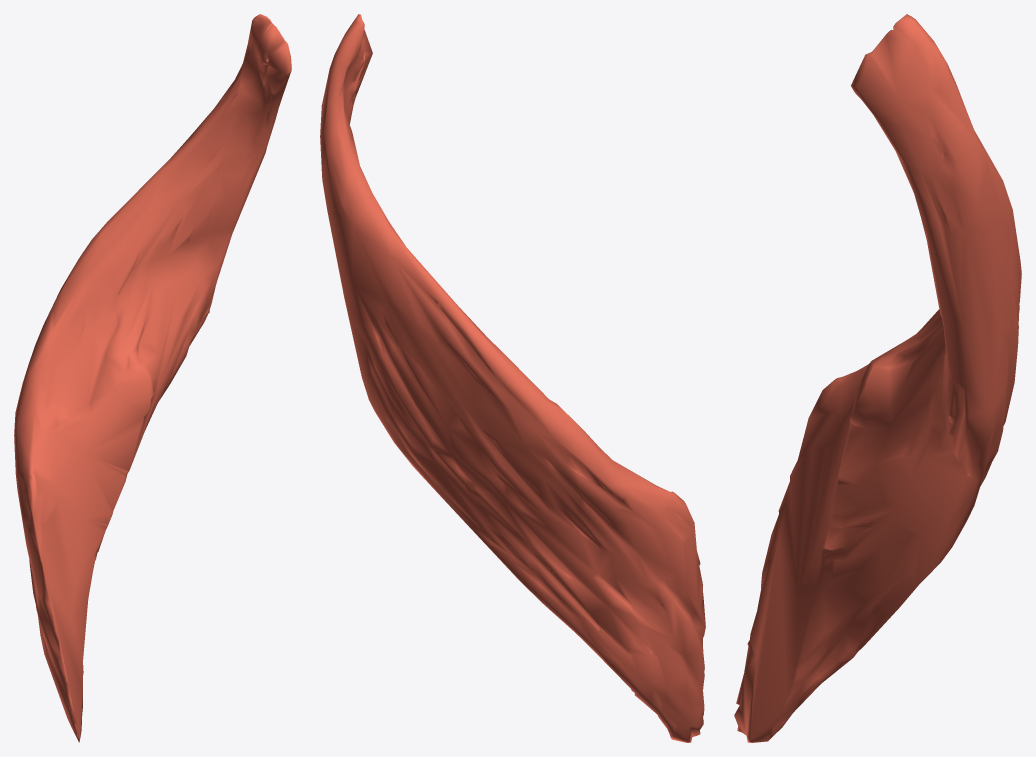
Rendered from popliteus.glb.
The picture shows the model from 3 angles, left to right: view 1: azimuth 30°, elevation 25°; view 2: azimuth 150°, elevation 25°; view 3: azimuth 270°, elevation 25°; orthographic projection. The views are drawn at different scales.
Parts seen in each view (by area): view 1: Popliteus muscle.l; view 2: Popliteus muscle.l; view 3: Popliteus muscle.l.
Part boxes in pixels (x1=…): Popliteus muscle.l: x1=14, y1=14, x2=291, y2=742; Popliteus muscle.l: x1=320, y1=14, x2=705, y2=742; Popliteus muscle.l: x1=734, y1=14, x2=1021, y2=742.
Size of the model in its own units: 0.0592 by 0.1251 by 0.0365.
